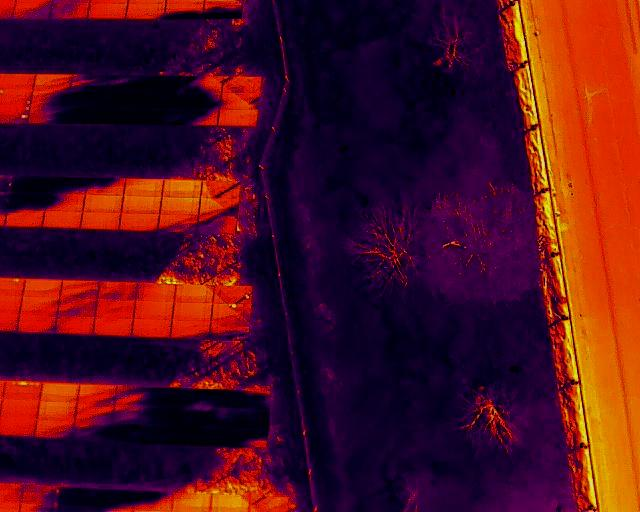Cell: (213, 286, 252, 303), (212, 303, 250, 320)
Cell-Multi: (3, 381, 41, 399)
No-Anomaly: (87, 0, 128, 19), (171, 318, 211, 337), (127, 0, 167, 19), (96, 300, 135, 319), (0, 399, 38, 418), (172, 493, 210, 512), (94, 318, 133, 336), (211, 494, 250, 512), (137, 283, 175, 301), (175, 284, 213, 302), (5, 209, 43, 227), (123, 197, 161, 215), (20, 312, 56, 331), (125, 179, 163, 197), (134, 318, 171, 336), (39, 401, 76, 419), (161, 197, 200, 214), (84, 195, 123, 212), (82, 212, 120, 229), (163, 180, 201, 197), (120, 213, 158, 230), (23, 278, 60, 295), (56, 317, 93, 334), (134, 301, 173, 317), (41, 384, 77, 401), (218, 110, 256, 126), (22, 296, 60, 312), (173, 302, 211, 318), (0, 418, 35, 435), (44, 212, 81, 228)
Shadowing: (151, 387, 193, 406), (58, 487, 97, 507), (151, 406, 192, 425), (77, 386, 115, 406), (192, 407, 230, 427), (151, 426, 191, 445), (74, 423, 113, 442), (98, 281, 137, 300), (211, 320, 250, 339), (191, 427, 230, 446), (36, 419, 73, 439), (165, 0, 206, 18), (232, 391, 270, 410), (193, 389, 231, 408), (230, 409, 268, 428), (230, 428, 268, 447), (115, 386, 151, 406), (22, 485, 58, 505), (250, 494, 290, 512), (76, 406, 113, 425), (114, 407, 151, 426), (71, 74, 108, 93), (98, 490, 135, 509), (159, 215, 198, 233), (205, 0, 244, 18), (87, 178, 125, 196), (136, 492, 172, 511), (181, 108, 218, 126), (59, 299, 96, 317), (49, 0, 88, 17), (31, 74, 72, 90), (198, 216, 236, 233), (201, 198, 238, 215), (47, 194, 84, 211), (61, 280, 98, 297), (223, 75, 260, 92), (113, 426, 150, 443), (141, 108, 180, 124), (145, 77, 184, 93), (69, 92, 105, 109), (202, 181, 240, 197), (31, 91, 69, 107), (30, 108, 67, 124), (49, 178, 86, 194), (184, 77, 221, 93), (15, 1, 52, 17), (106, 92, 145, 107), (103, 108, 142, 123), (11, 192, 47, 208), (145, 93, 183, 108), (220, 93, 257, 108), (11, 176, 48, 191), (67, 108, 103, 123), (108, 77, 146, 91), (184, 93, 220, 107)
